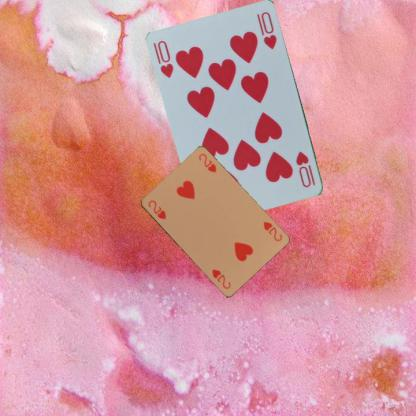10h: (294, 148, 317, 189), (155, 38, 175, 80)
2h: (260, 219, 283, 243), (145, 198, 167, 221)
